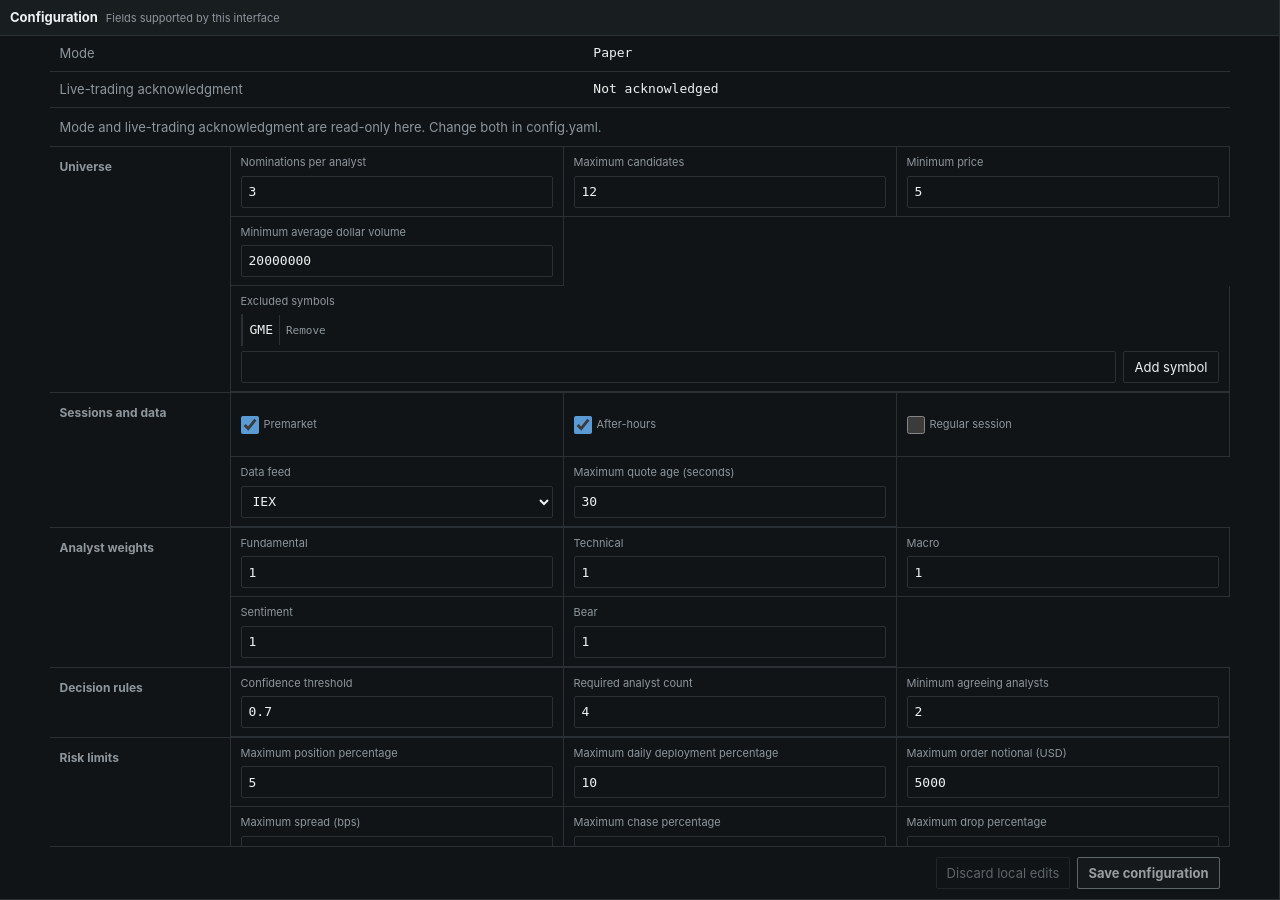
Scenario: ConfigurationView › announces a successful save politely
Replace the text in the number field labelled "Confidence threshold" with "0.82": (396, 712) 240,696 -> 552,728
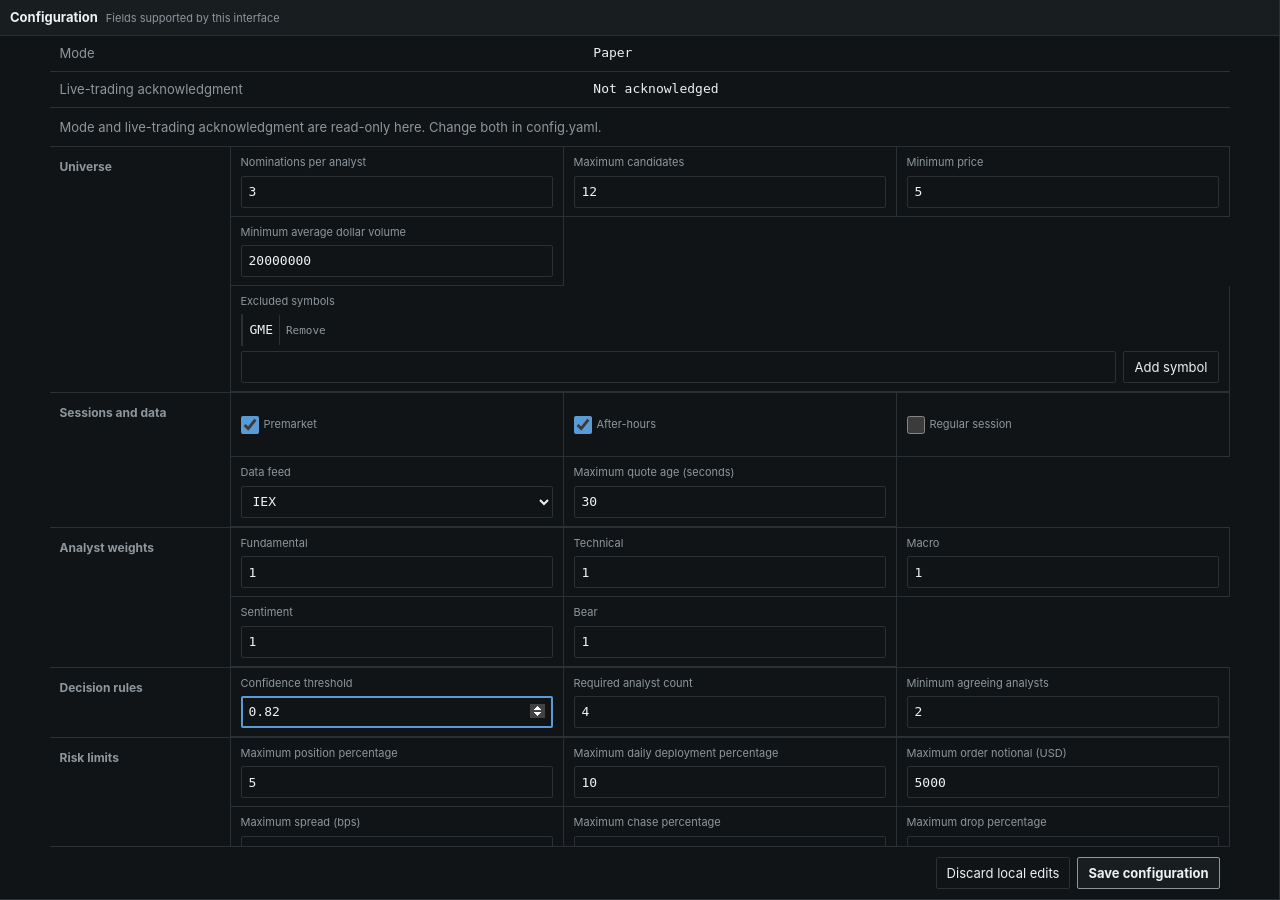
Click the button "Save configuration": (1148, 873) 1077,857 -> 1220,889
(page scrolled)
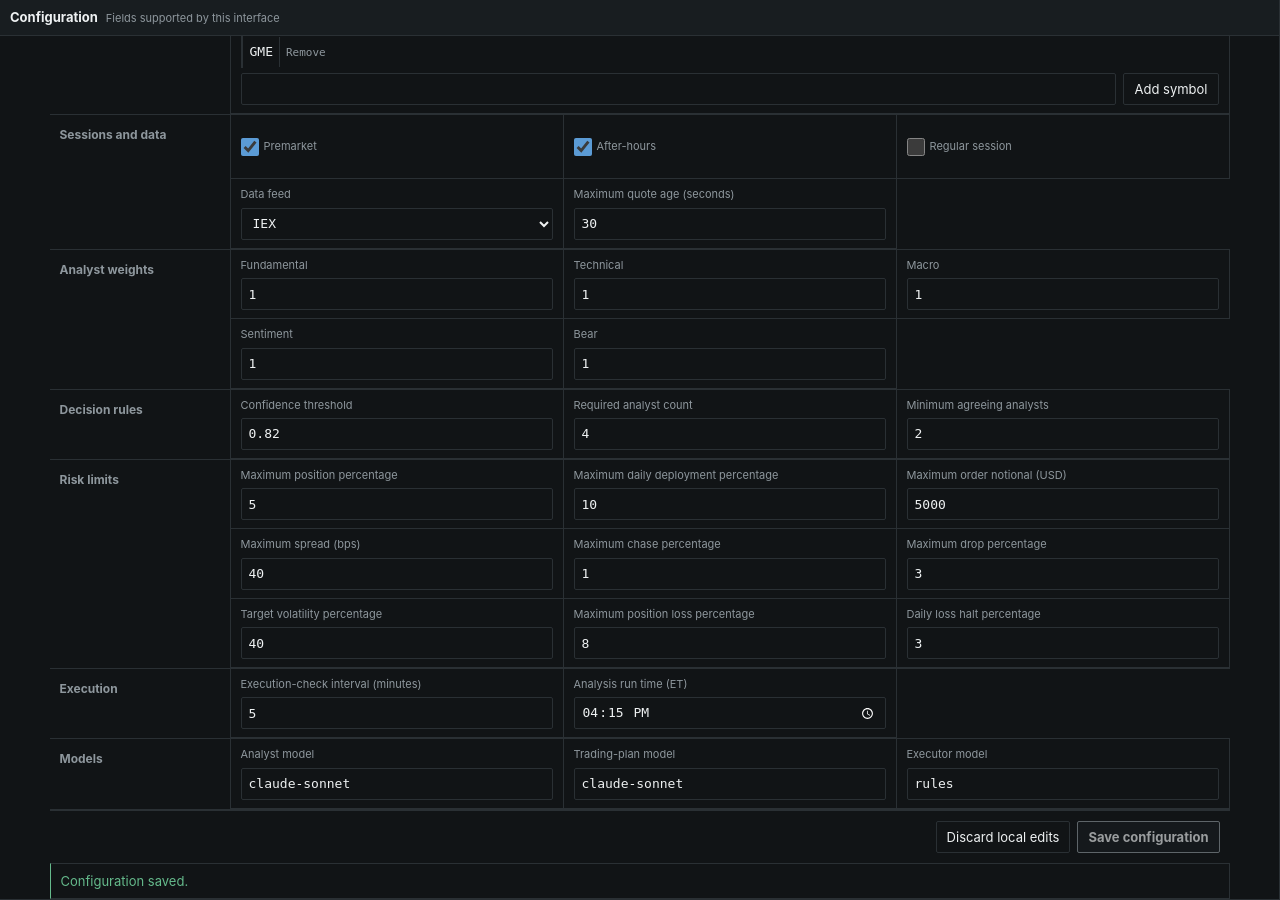
Result: the message reads "Configuration saved." at 60,873 -> 188,889
